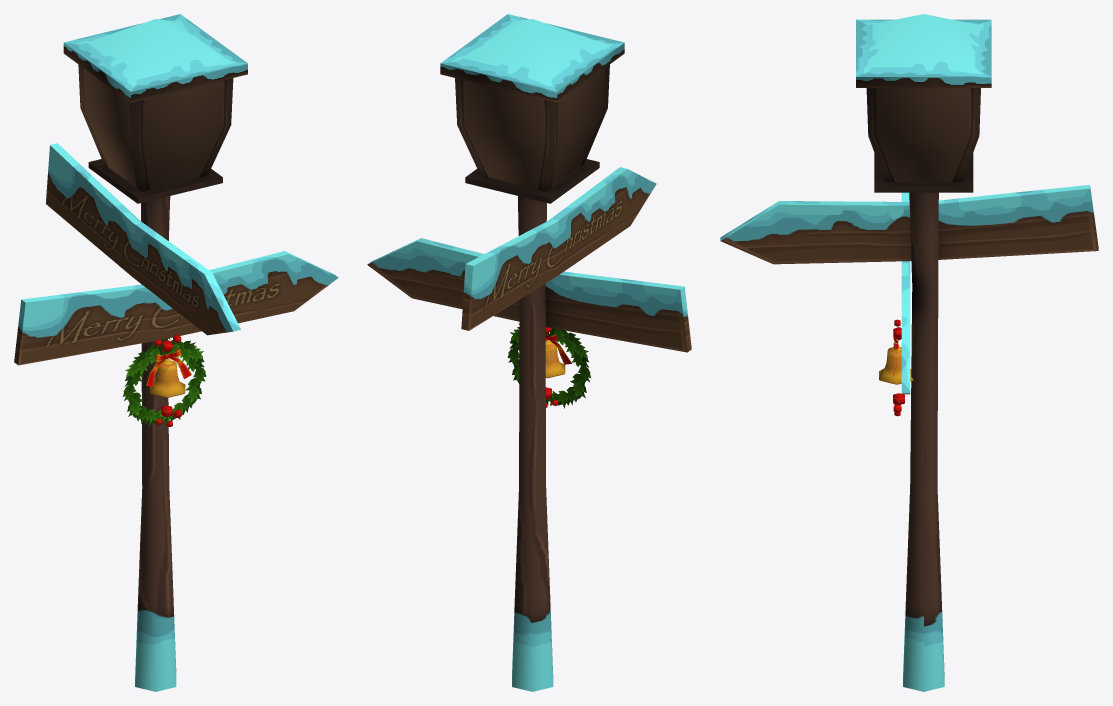
File: Signboard_Lantern.FBX
3 views of the same model, side by side, from view 1: azimuth 30°, elevation 25°; view 2: azimuth 150°, elevation 25°; view 3: azimuth 270°, elevation 25° (orthographic).
Visible parts, largest first — view 1: Line020, Line1681; view 2: Line020, Line1681; view 3: Line020, Line1681.
Part boxes in pixels (box(x1,y1,x2,y2)): Line020: box(14, 14, 338, 691); Line1681: box(123, 335, 206, 427); Line020: box(367, 14, 691, 691); Line1681: box(507, 323, 590, 408); Line020: box(720, 14, 1098, 691); Line1681: box(879, 319, 913, 416).
Size of the model in its own units: 88.07 by 174 by 89.38.
Materials: 2 (2 with a texture image).
